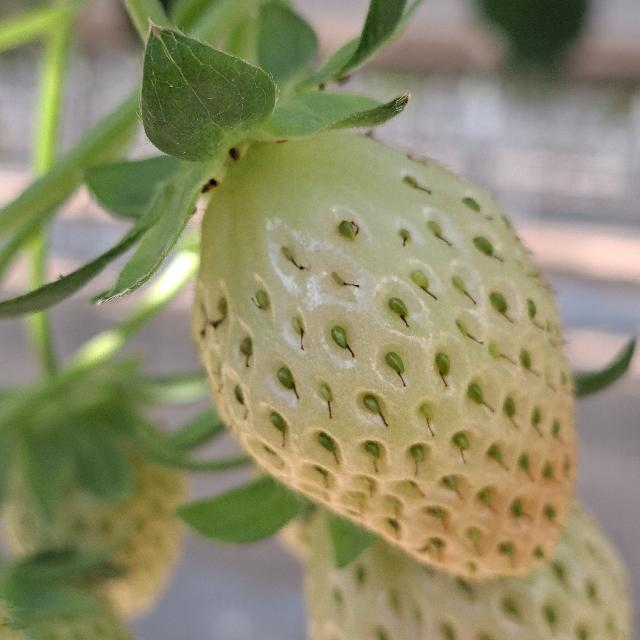Health_50: (191, 128, 577, 580)
